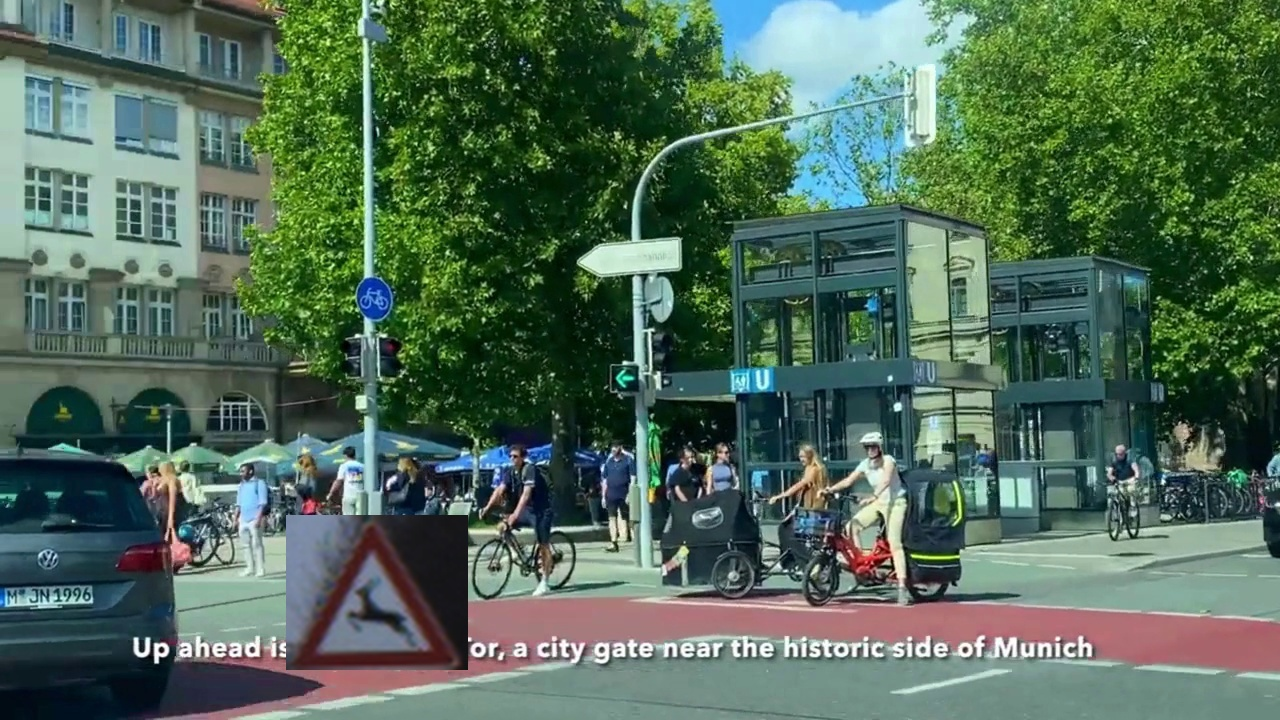Wild animals: (286, 515, 468, 670)
